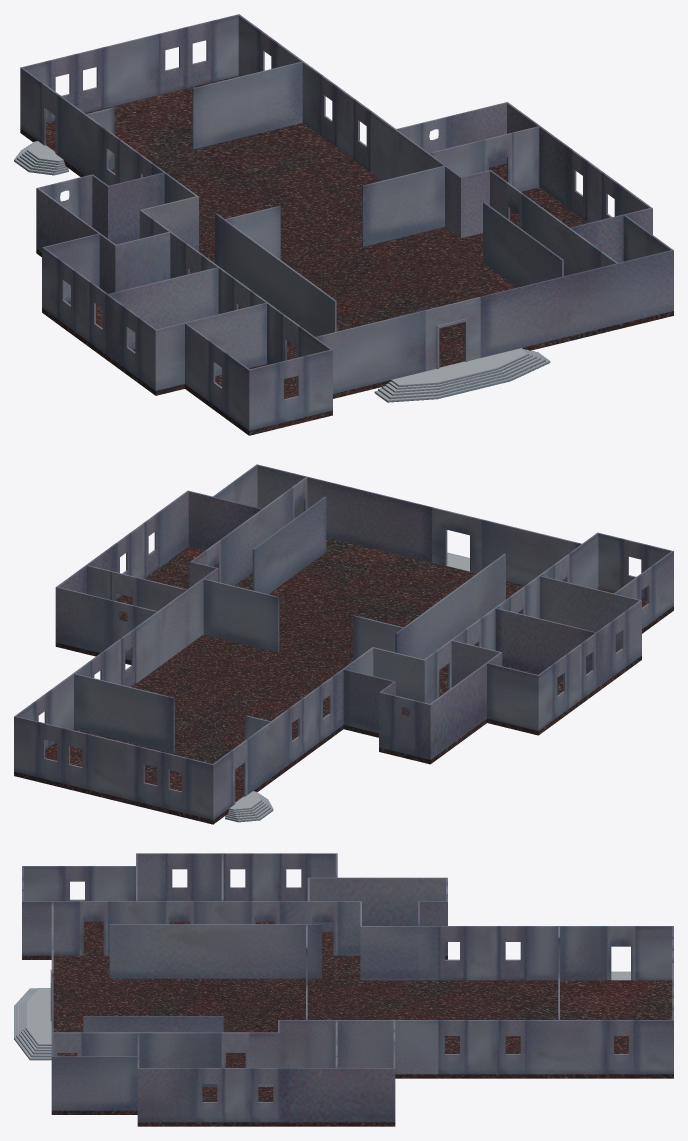
Rendered from Resized_Building.fbx.
The picture shows the model from 3 angles, top to bottom: view 1: azimuth 30°, elevation 25°; view 2: azimuth 150°, elevation 25°; view 3: azimuth 270°, elevation 25°; orthographic projection. The views are drawn at different scales.
Parts seen in each view (by area): view 1: MansionBase, MansionBase3; view 2: MansionBase, MansionBase3; view 3: MansionBase, MansionBase3.
Part boxes in pixels (bbox=[...]): MansionBase: bbox=[14, 14, 673, 430]; MansionBase3: bbox=[20, 75, 673, 435]; MansionBase: bbox=[14, 464, 673, 822]; MansionBase3: bbox=[14, 537, 673, 824]; MansionBase: bbox=[14, 853, 673, 1122]; MansionBase3: bbox=[22, 922, 673, 1126].
Size of the model in its own units: 2983 by 402 by 3859.
